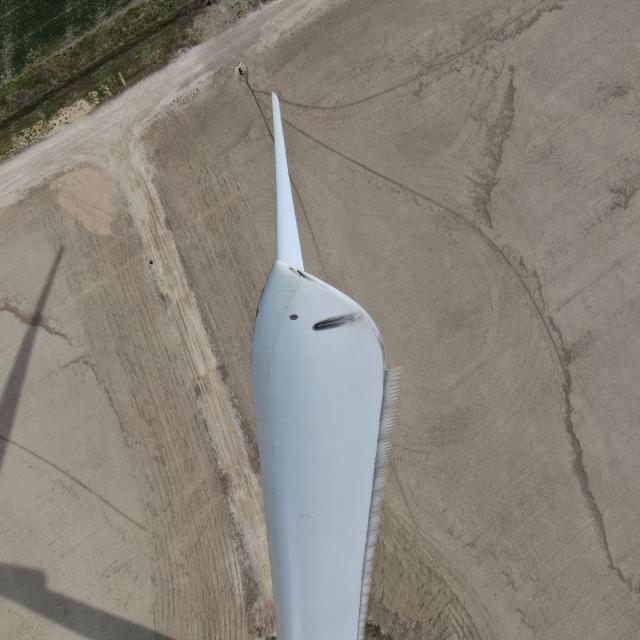damage: (311, 308, 365, 341)
